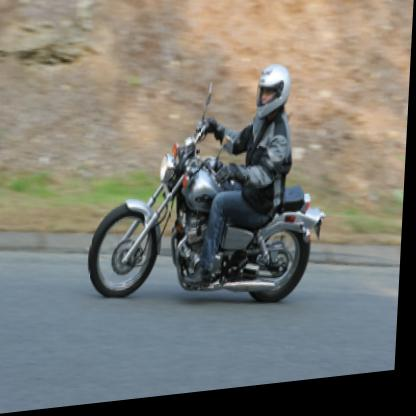With Helmet: (256, 67, 297, 121)
